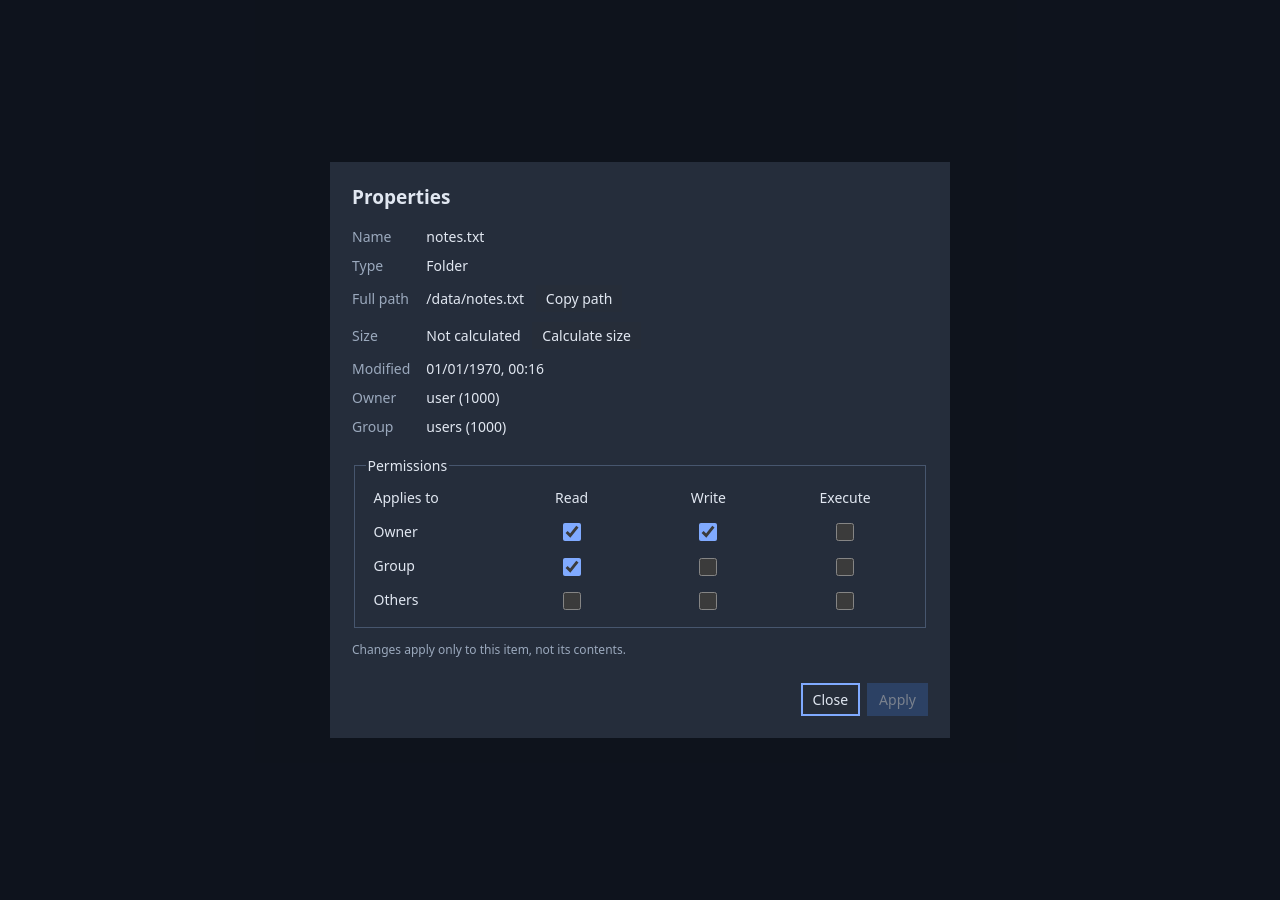
Test: calculates folder size only on request
Click the button "Calculate size".
click(587, 336)  # box [532,322,641,349]
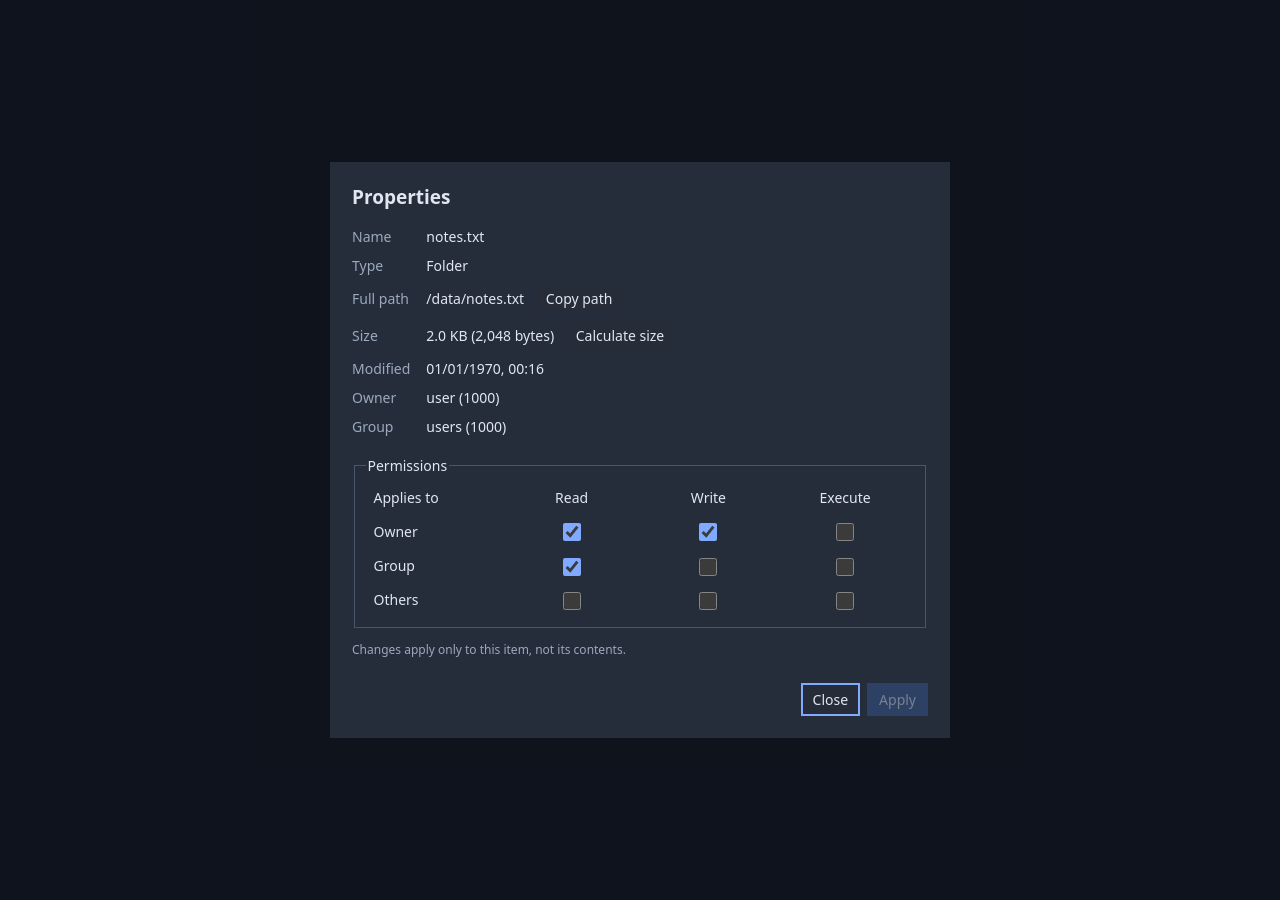
Now the text "2.0 KB" is shown, box [426,326,558,345]
